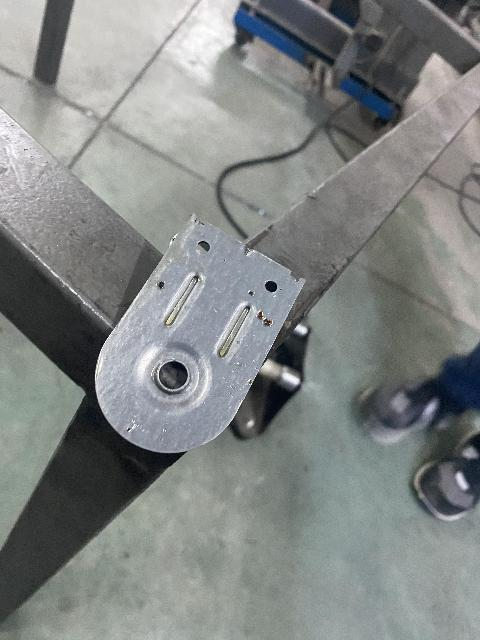Metal: (70, 222, 333, 465)
